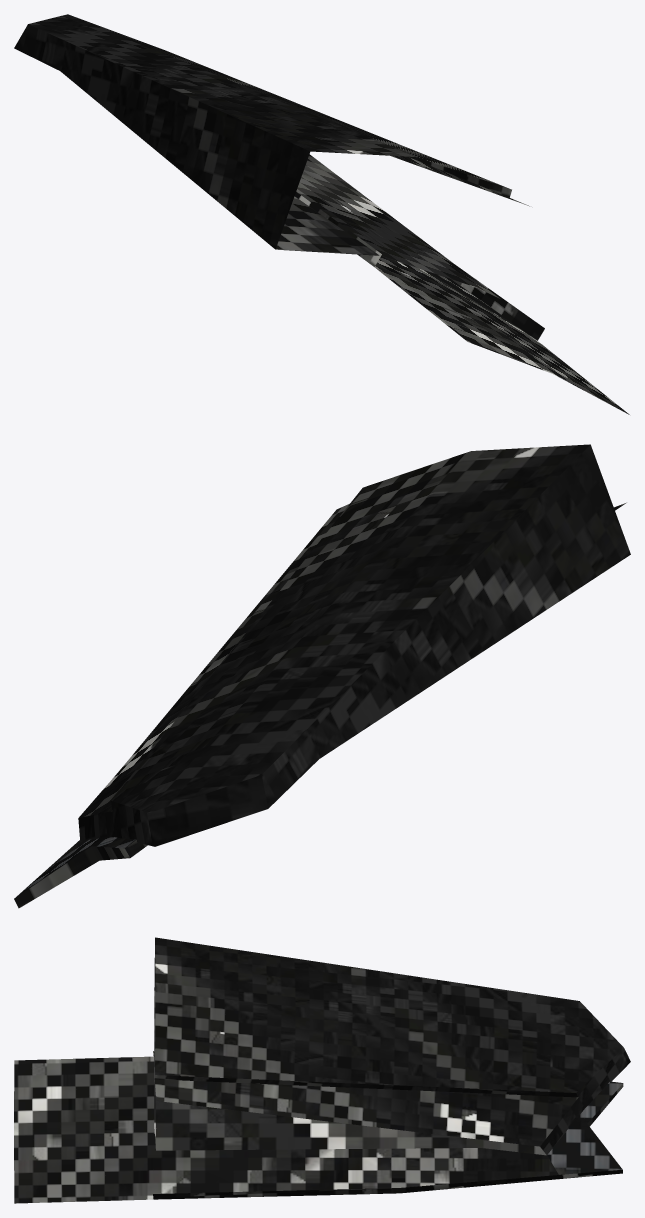
3 views of the same model, one above another, from view 1: azimuth 30°, elevation 25°; view 2: azimuth 150°, elevation 25°; view 3: azimuth 270°, elevation 25° (orthographic). The views are drawn at different scales.
Parts seen in each view (by area): view 1: engine_blade_02_f35_ext_3_0; view 2: engine_blade_02_f35_ext_3_0; view 3: engine_blade_02_f35_ext_3_0.
Part boxes in pixels (<box>): engine_blade_02_f35_ext_3_0: <box>14,14,629,414</box>; engine_blade_02_f35_ext_3_0: <box>14,444,630,908</box>; engine_blade_02_f35_ext_3_0: <box>14,937,630,1203</box>.
Bounding box in the file's own units: 29.99 × 26.63 × 80.62.
1 material, 1 textured.
